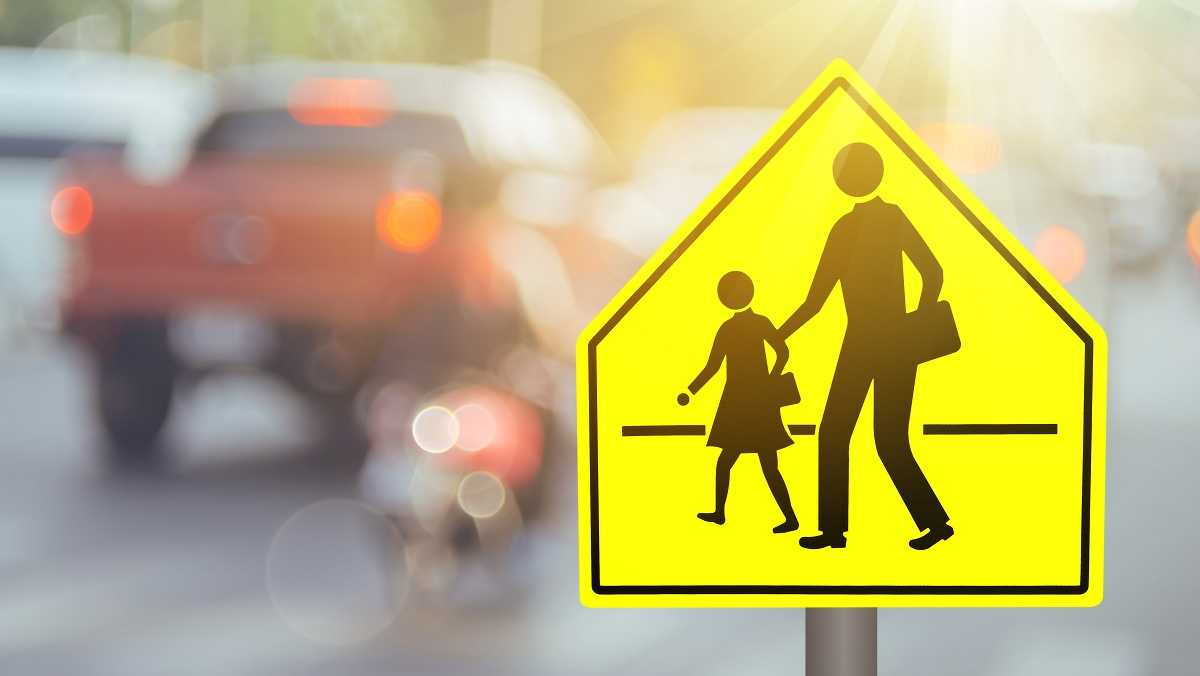slow: (572, 54, 1109, 610)
